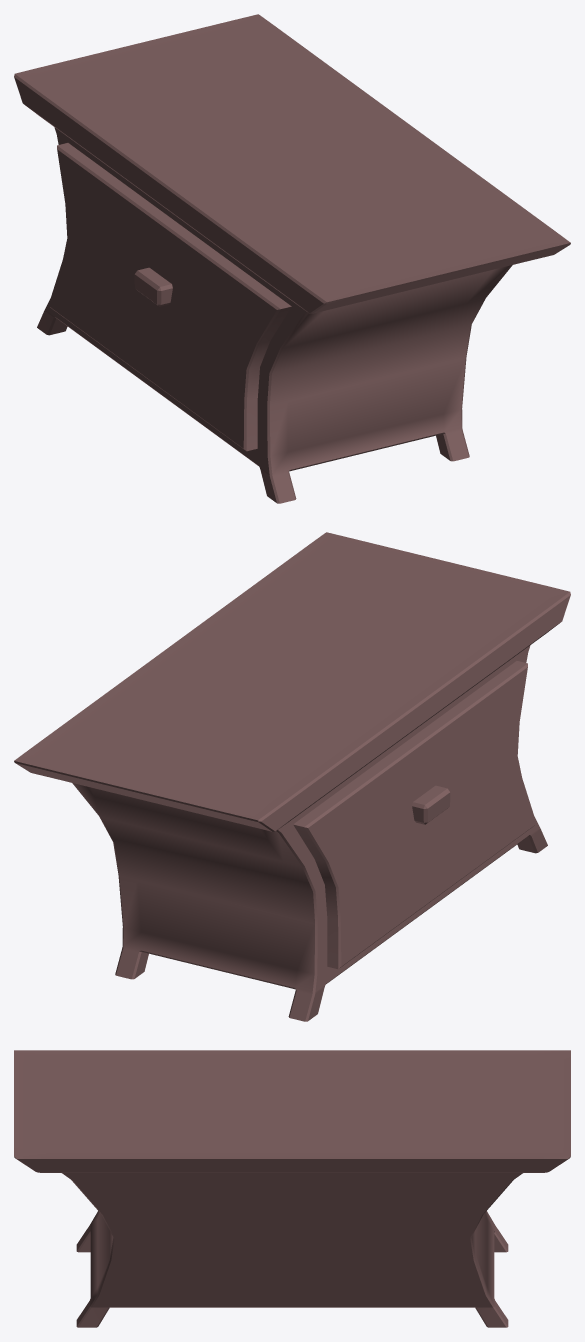
The model's file is SM_Drawer_003.fbx.
3 renders of one model, top to bottom at view 1: azimuth 30°, elevation 25°; view 2: azimuth 150°, elevation 25°; view 3: azimuth 270°, elevation 25°, orthographic. The views are drawn at different scales.
Parts seen in each view (by area): view 1: Drawers; view 2: Drawers; view 3: Drawers.
Boxes of the visible parts, x1,y1,x2,y2 form: Drawers: (14, 14, 570, 503); Drawers: (14, 532, 570, 1021); Drawers: (14, 1050, 570, 1327).
Size of the model in its own units: 49.11 by 38.91 by 98.34.
